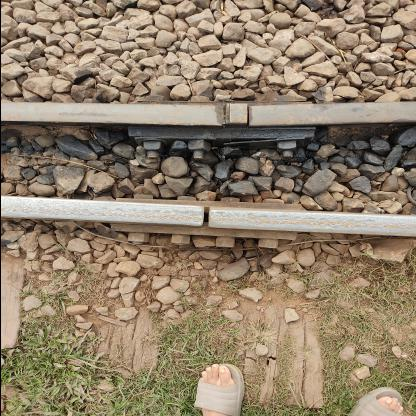Defective: (171, 195, 228, 243)
